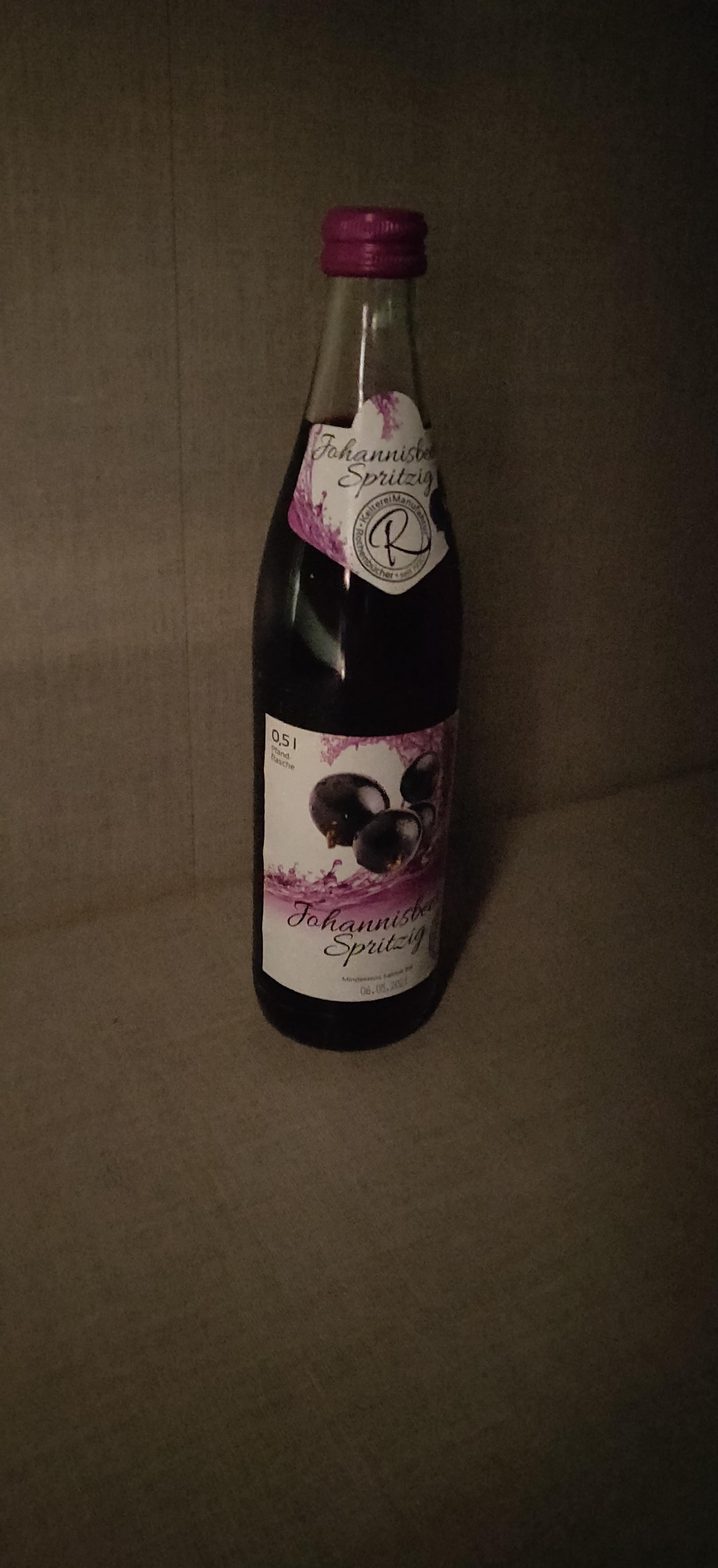bottle-glass: (246, 200, 469, 1056)
